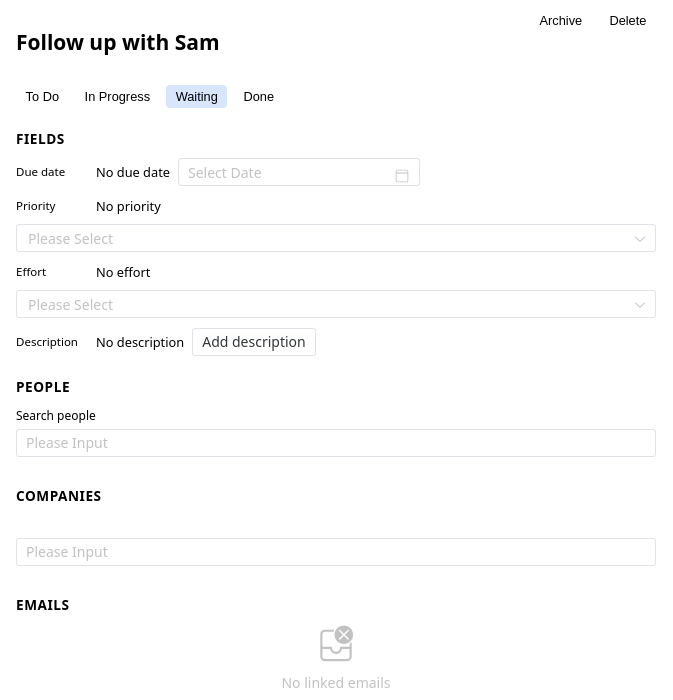
Test: TaskDetailPage › keeps the last-saved lane current and shows an inline error when a move fails to save (spec edge case 2)
What coordinates should you click on to do the following:
click the button "In Progress"
I would click on:
 (117, 97)
Its box is [75, 85, 160, 108].
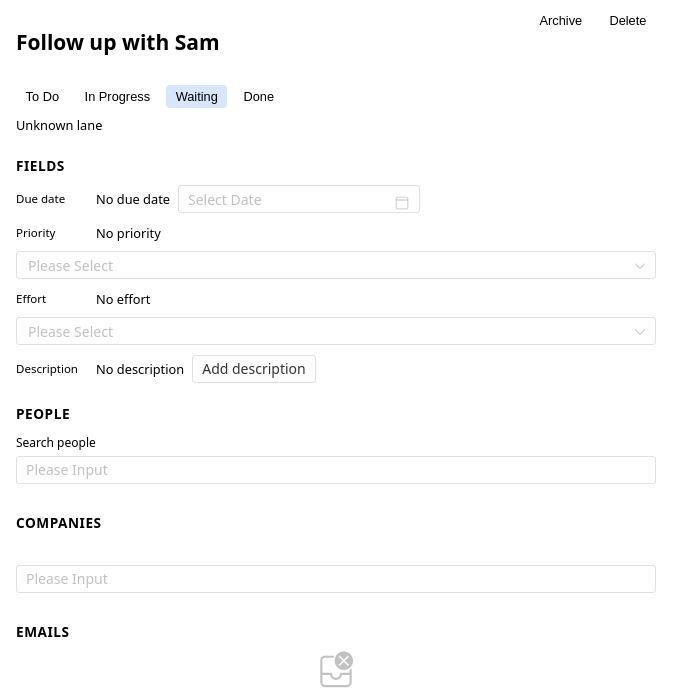
Check: the button "Waiting" is disabled, box [166, 85, 227, 108]
Check: the message reads "Unknown lane", box [16, 116, 102, 134]
